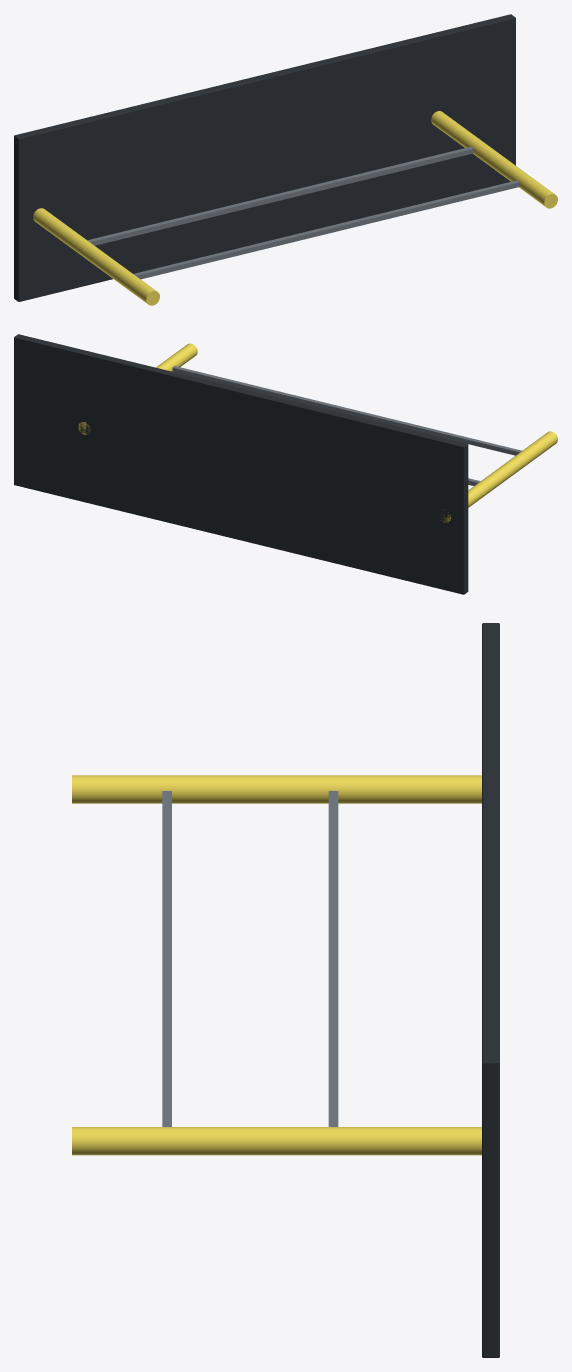
The model's file is dive_fillstation_filling_station.glb.
3 renders of one model, top to bottom at view 1: azimuth 30°, elevation 25°; view 2: azimuth 150°, elevation 25°; view 3: azimuth 270°, elevation 25°, orthographic. The views are drawn at different scales.
Visible parts, largest first — view 1: pad, chain_hi, chain_lo, post_l, post_r; view 2: pad, chain_hi, post_l, post_r; view 3: pad, post_r, post_l, chain_lo, chain_hi.
Boxes of the visible parts, x1,y1,x2,y2 form: pad: (14, 14, 515, 301); chain_hi: (133, 180, 519, 279); chain_lo: (87, 146, 473, 245); post_l: (33, 208, 159, 305); post_r: (431, 111, 557, 208); pad: (14, 334, 468, 594); chain_hi: (172, 366, 521, 455); post_l: (441, 431, 557, 522); post_r: (78, 343, 197, 434); pad: (482, 623, 499, 1357); post_r: (72, 1127, 481, 1155); post_l: (72, 775, 481, 803); chain_lo: (328, 791, 338, 1126); chain_hi: (162, 791, 171, 1126).
Bounding box in the file's own units: 1.75 × 0.55 × 0.72.
